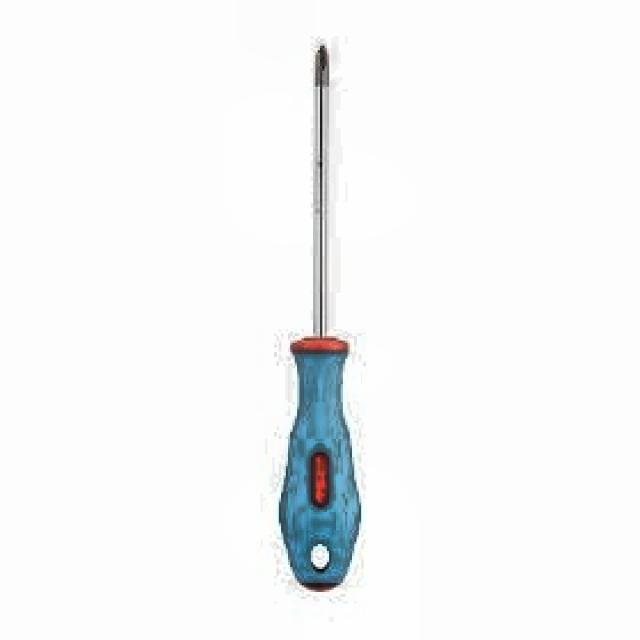screwdriver: (278, 46, 362, 592)
